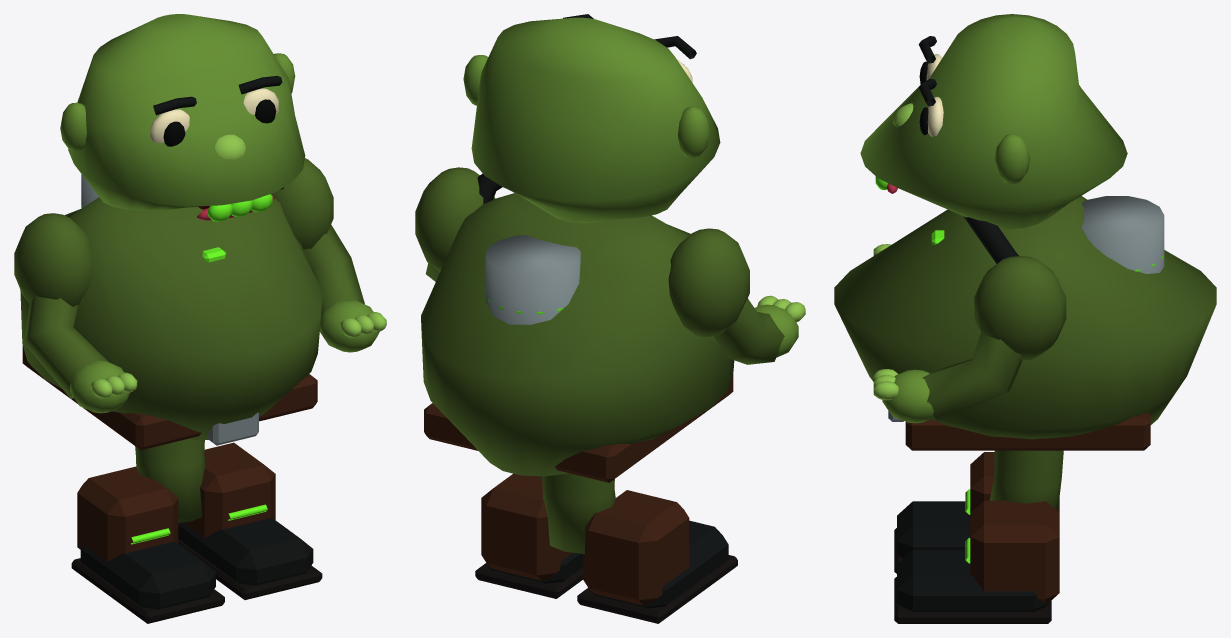
The model's file is spitter.glb.
3 views of the same model, side by side, from view 1: azimuth 30°, elevation 25°; view 2: azimuth 150°, elevation 25°; view 3: azimuth 270°, elevation 25° (orthographic). The views are drawn at different scales.
Parts seen in each view (by area): view 1: Body, Head, Arms, LegL, LegR; view 2: Body, Head, LegL, Arms, LegR; view 3: Body, Head, LegR, Arms, LegL.
Boxes of the visible parts, x1,y1,x2,y2 form: Body: (20,174,322,450); Head: (60,14,305,221); Arms: (14,158,386,413); LegL: (71,439,224,623); LegR: (136,442,322,599); Body: (421,173,734,482); Head: (463,14,720,223); LegL: (542,473,737,623); Arms: (415,167,805,364); LegR: (475,473,614,598); Body: (834,196,1216,450); Head: (860,14,1127,229); LegR: (894,450,1059,623); Arms: (873,244,1066,423); LegL: (894,450,1063,573).
Bounding box in the file's own units: 0.7267 × 1.16 × 0.7293.
Materials: 1 (1 with a texture image).
